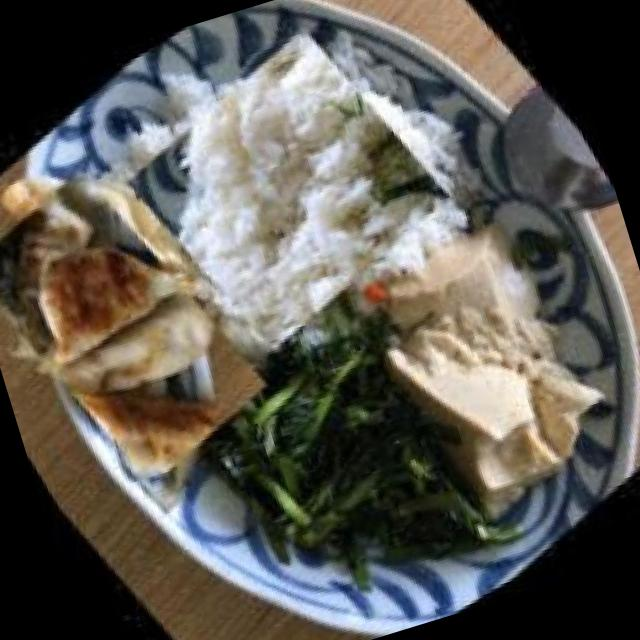fried_dumplings: (0, 120, 295, 528)
rice: (87, 0, 487, 388)
water_spinach: (195, 310, 468, 582)
